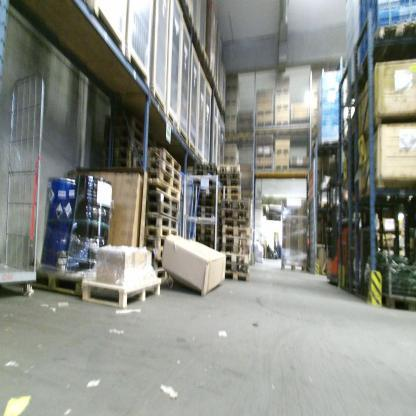pallets: (142, 146, 183, 284), (216, 167, 252, 280), (253, 159, 310, 173), (380, 292, 415, 312), (253, 118, 292, 133)
